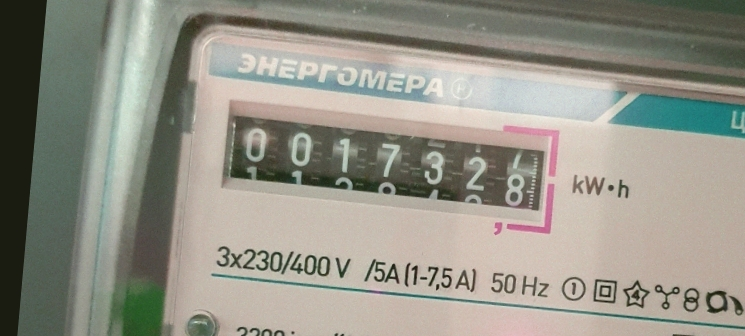0: (241, 123, 270, 165), (288, 128, 314, 168)
1: (333, 133, 354, 175)
2: (463, 153, 489, 192)
3: (422, 148, 447, 186)
7: (377, 139, 402, 180)
8: (503, 169, 525, 206)
screen: (208, 95, 570, 242)
